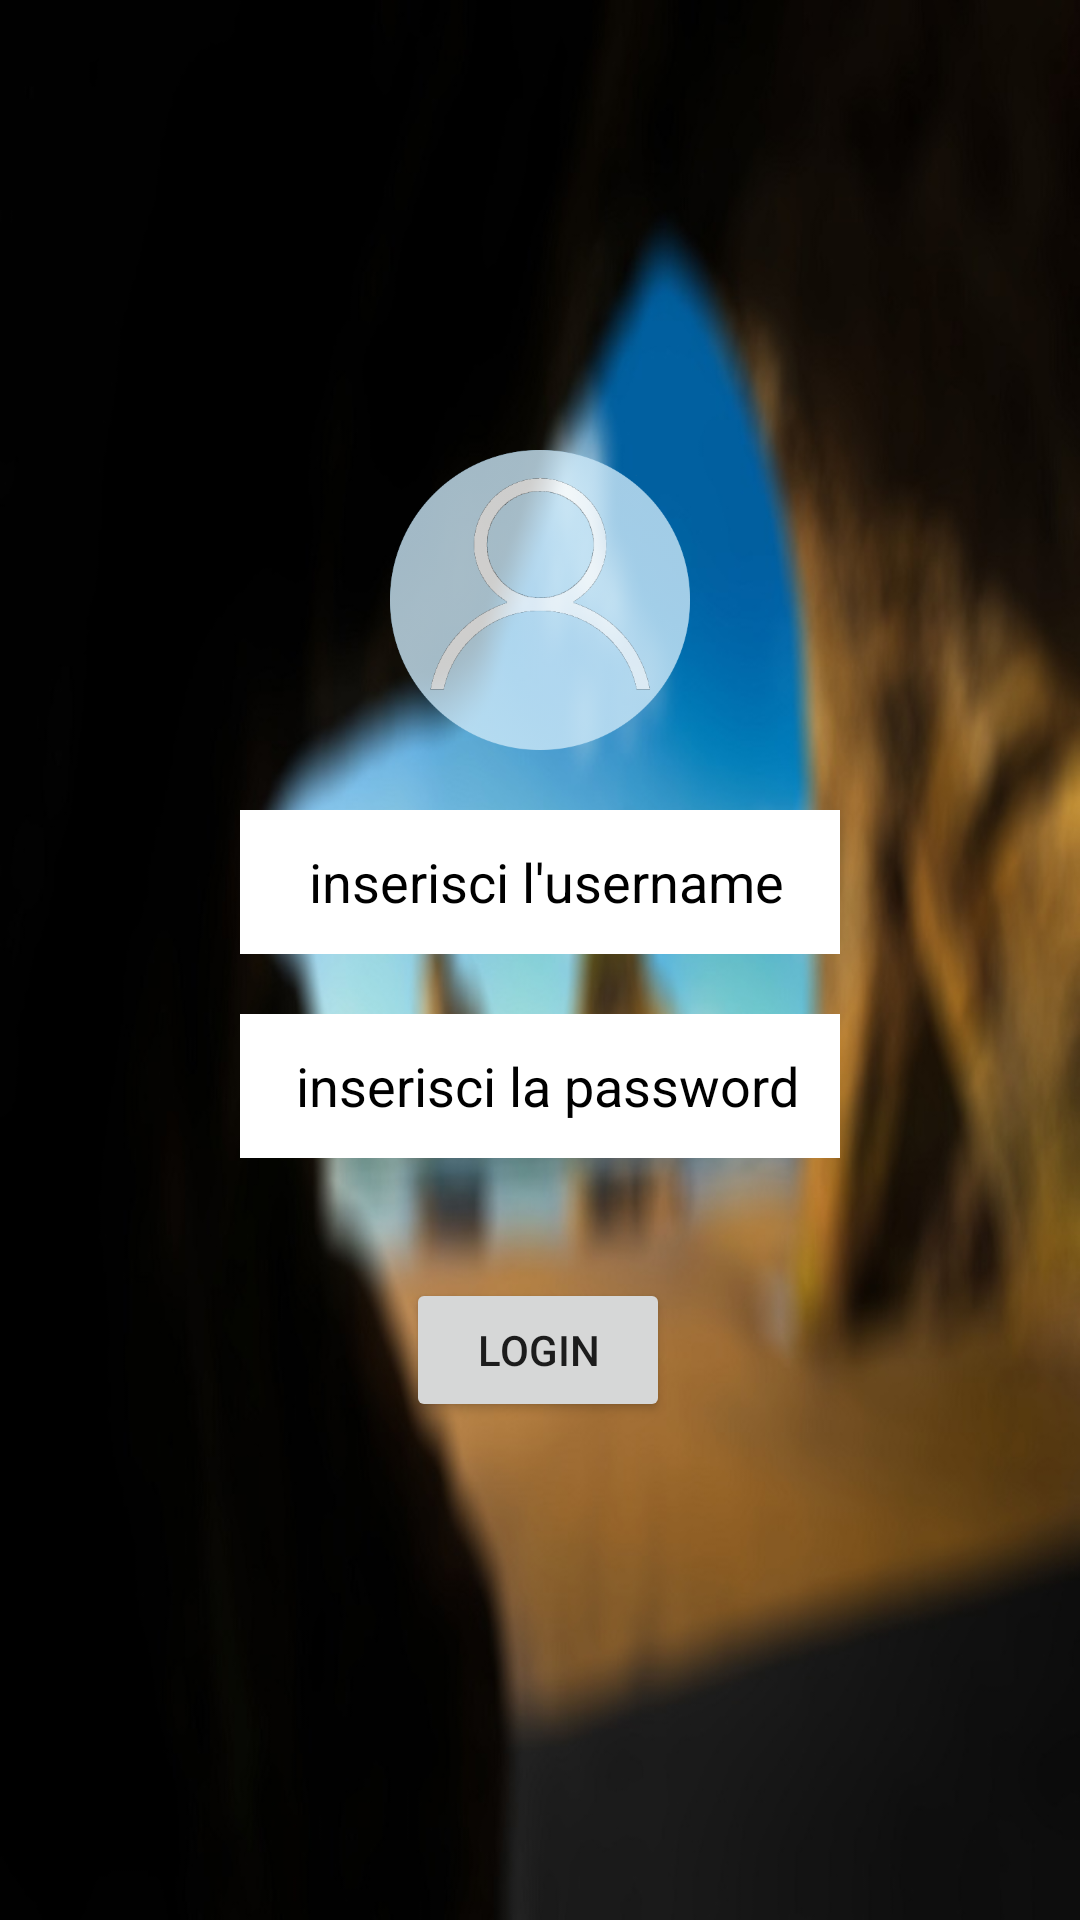

Point at icon controls on the screen. Image size 1080x1920, points as point (x, y).
icona user: point (540, 600)
